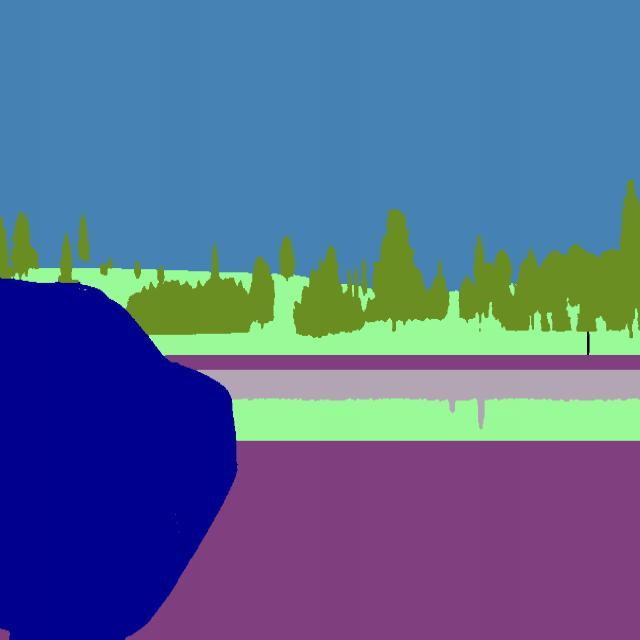unsafe: (0, 270, 238, 640)
